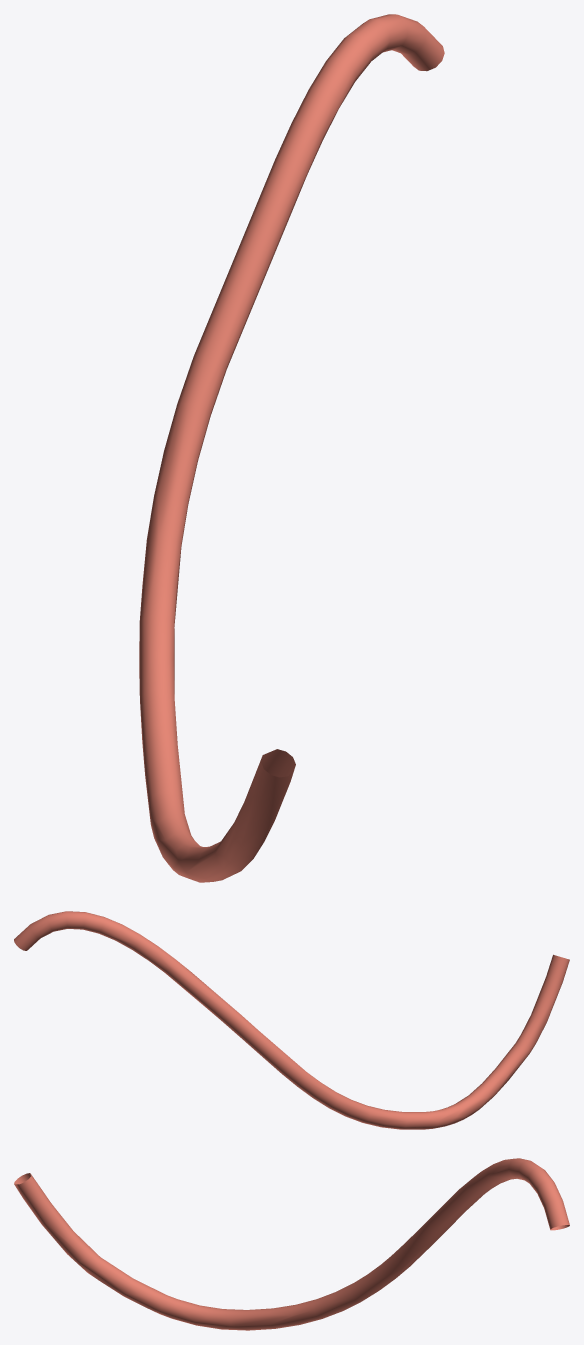
Rendered from visceras-submandibular-duct-l.glb.
The picture shows the model from 3 angles, top to bottom: view 1: azimuth 30°, elevation 25°; view 2: azimuth 150°, elevation 25°; view 3: azimuth 270°, elevation 25°; orthographic projection. The views are drawn at different scales.
Parts seen in each view (by area): view 1: Submandibular duct.l; view 2: Submandibular duct.l; view 3: Submandibular duct.l.
Boxes of the visible parts, x1,y1,x2,y2 form: Submandibular duct.l: [139, 14, 444, 882]; Submandibular duct.l: [14, 911, 569, 1129]; Submandibular duct.l: [14, 1158, 569, 1330].
Size of the model in its own units: 0.0207 by 0.0158 by 0.0269.
